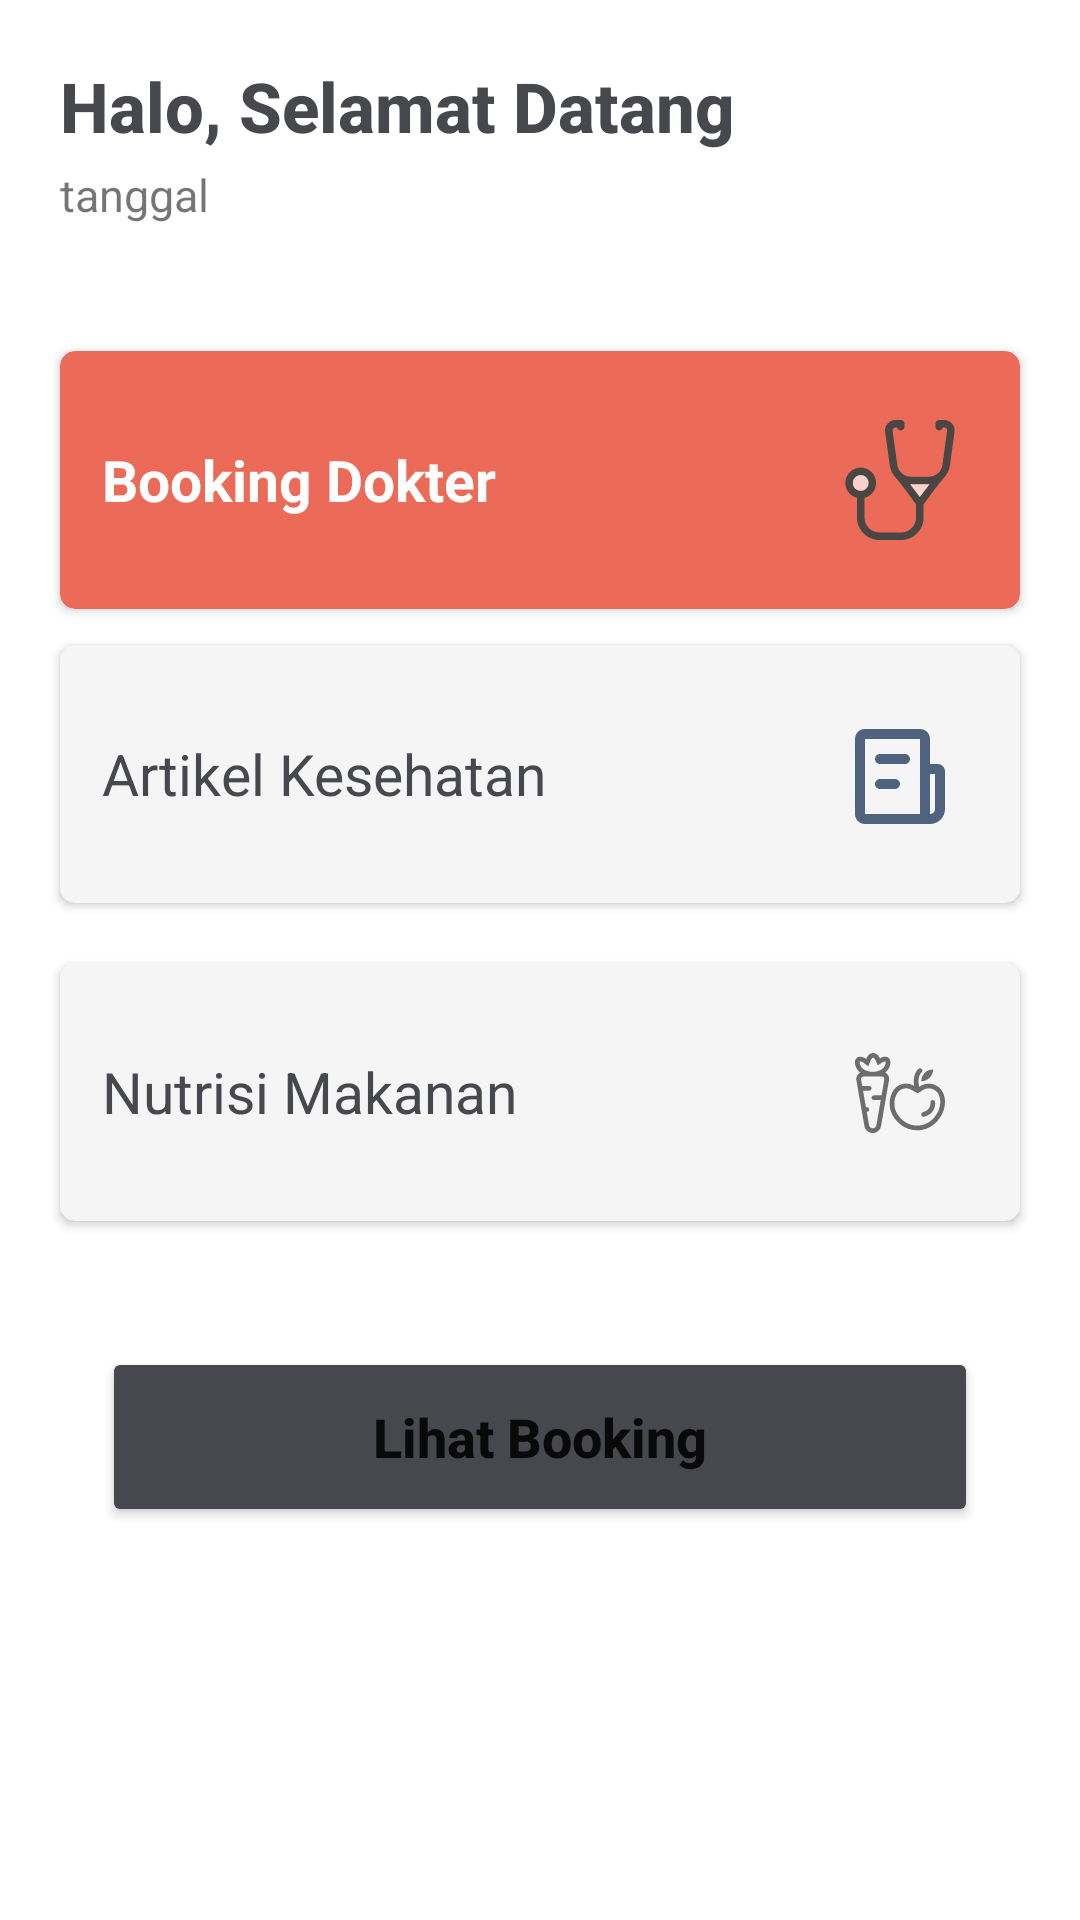

Screen size 1080x1920. Icon name, then its box in pixels as (x1, y1, x2, y2):
news: (855, 729, 945, 824)
stetoskop: (845, 420, 955, 540)
